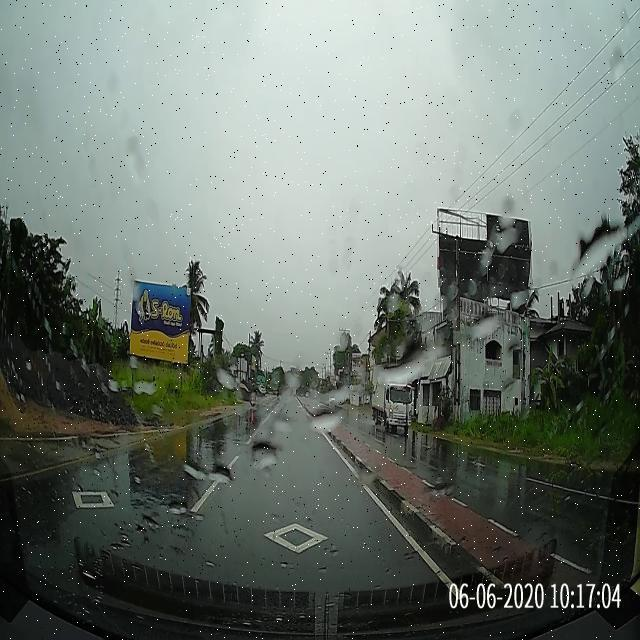diamond: (162, 482, 438, 551)
